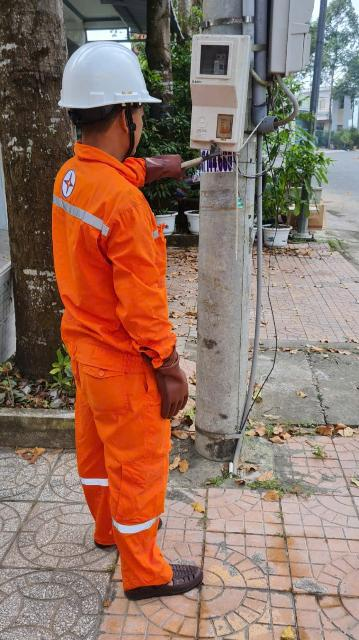gloves: (150, 345, 196, 420), (128, 152, 194, 187)
helmet: (41, 33, 163, 120)
shoes: (116, 553, 206, 601)
